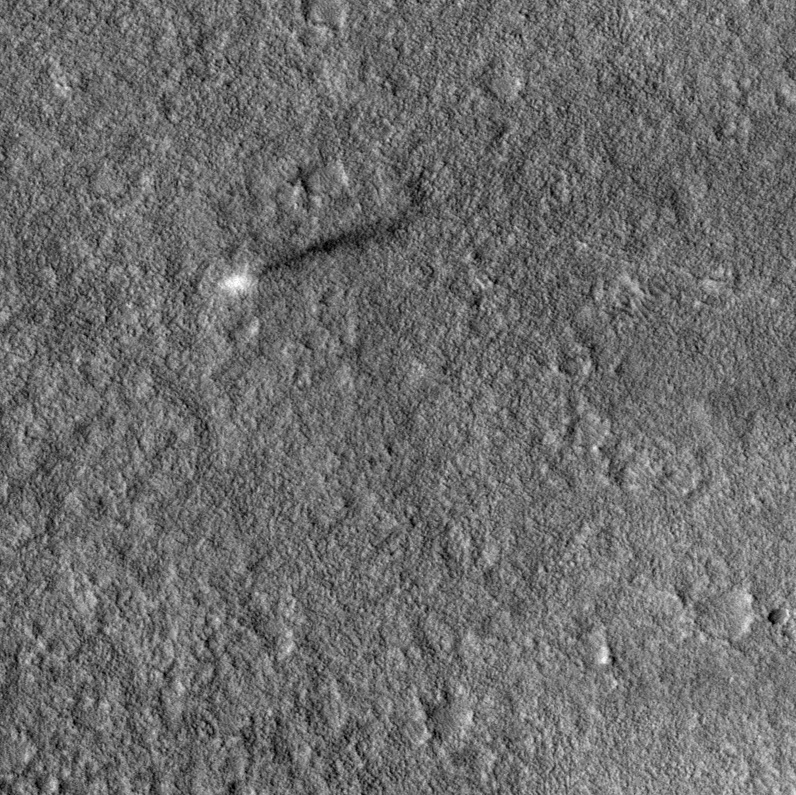dust_devil: (215, 212, 415, 295)
